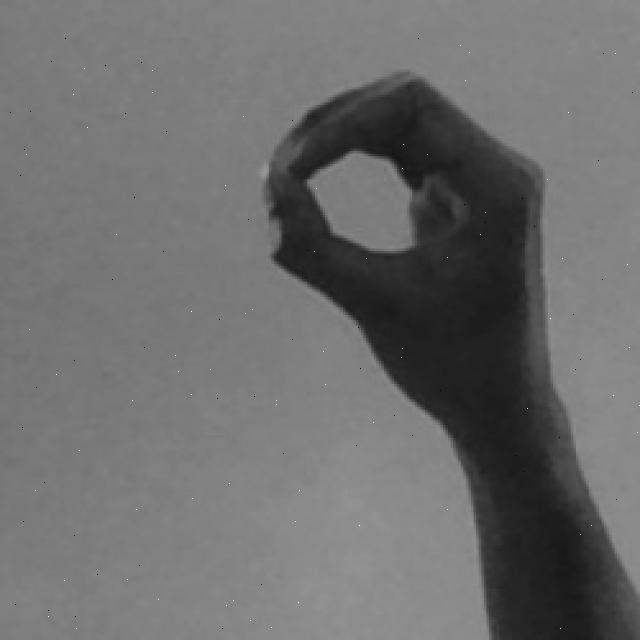O: (263, 66, 640, 640)
